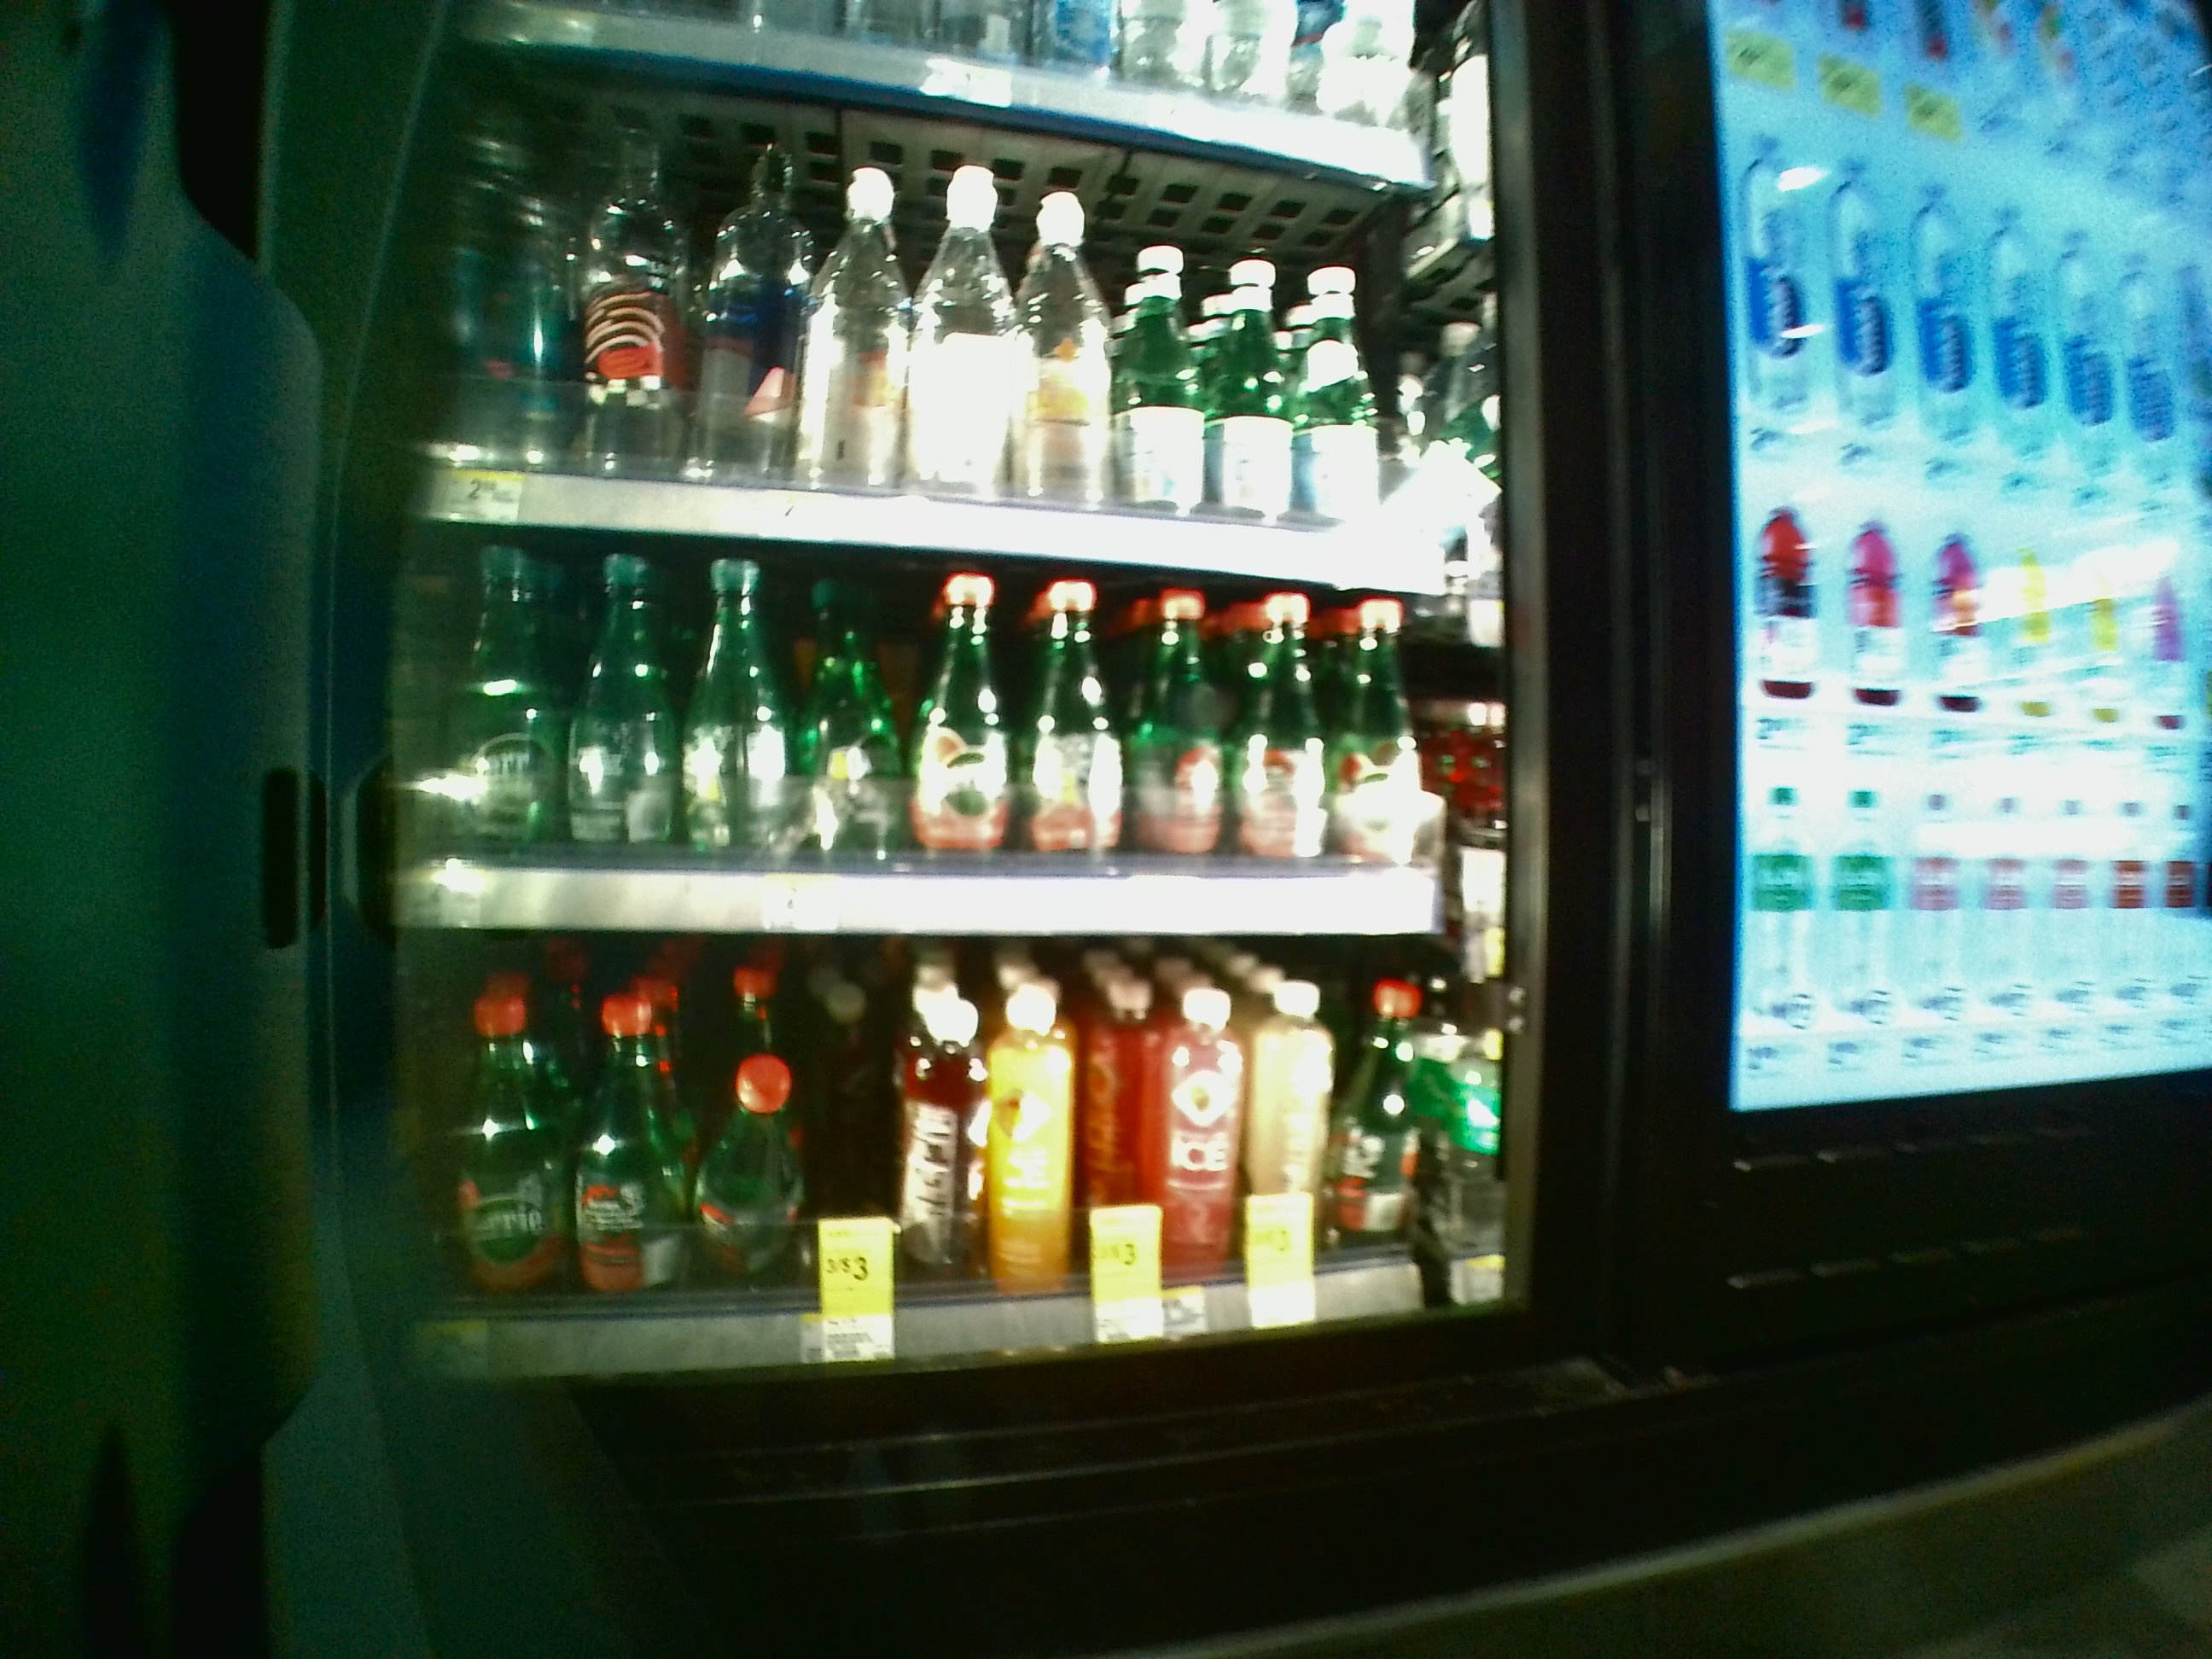shelf: (355, 943, 1508, 1385), (355, 523, 1529, 943)
